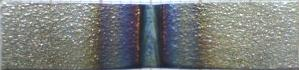soldas: (87, 3, 207, 70)
